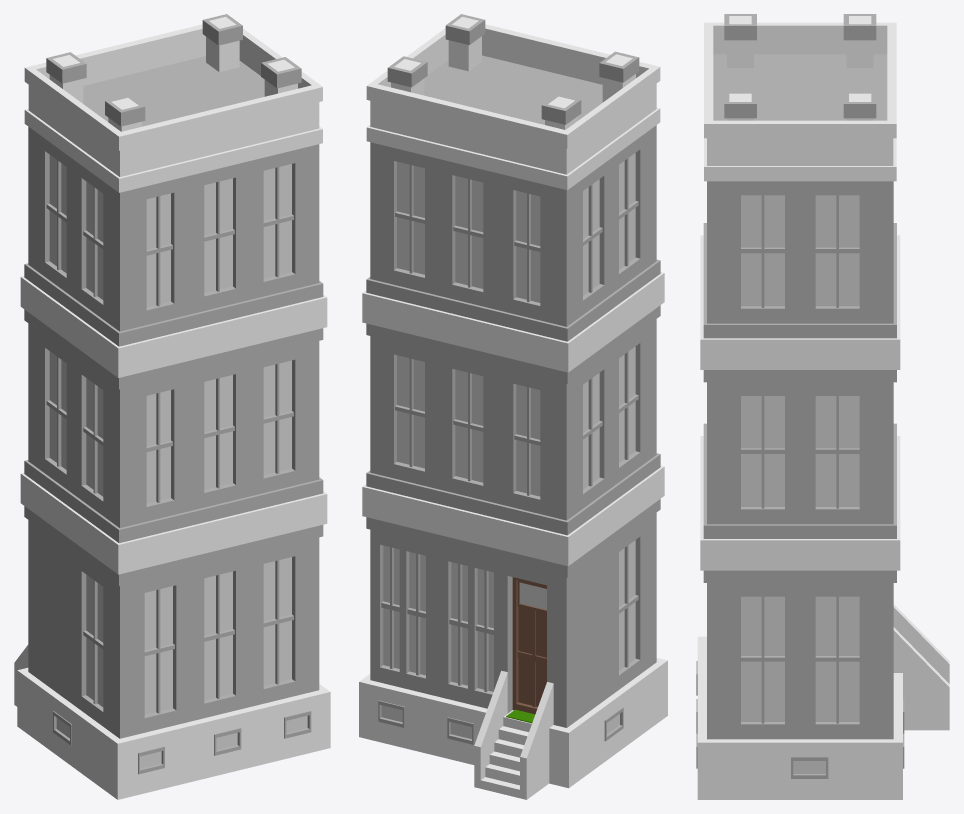
File: mansion_1.3.1.fbx
3 views of the same model, side by side, from view 1: azimuth 30°, elevation 25°; view 2: azimuth 150°, elevation 25°; view 3: azimuth 270°, elevation 25° (orthographic). The views are drawn at different scales.
Visible parts, largest first — view 1: Building_04; view 2: Building_04; view 3: Building_04.
Part boxes in pixels (box(x1,y1,x2,y2)): Building_04: box(14, 14, 330, 799); Building_04: box(359, 14, 667, 799); Building_04: box(696, 14, 949, 799).
Size of the model in its own units: 80 by 240 by 80.
